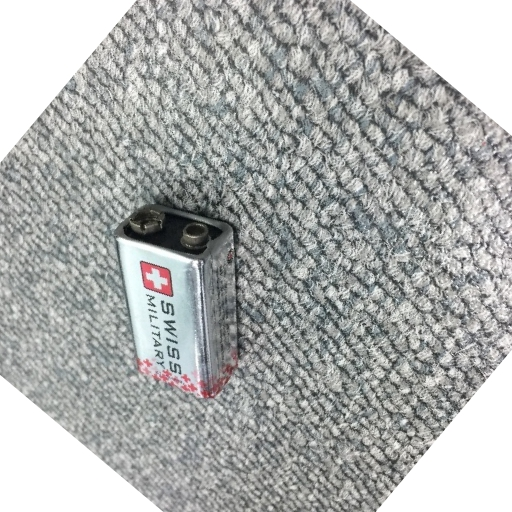Battery_3: (103, 193, 261, 417)
